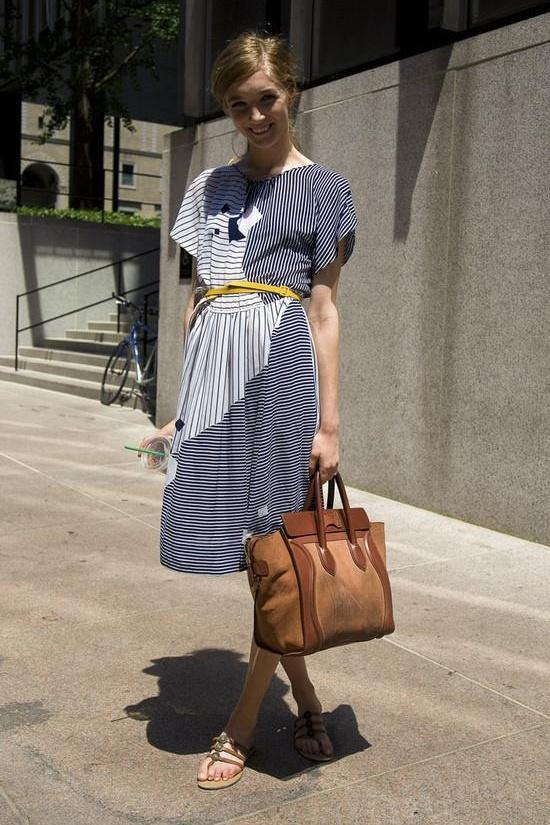dress: (159, 160, 357, 578)
